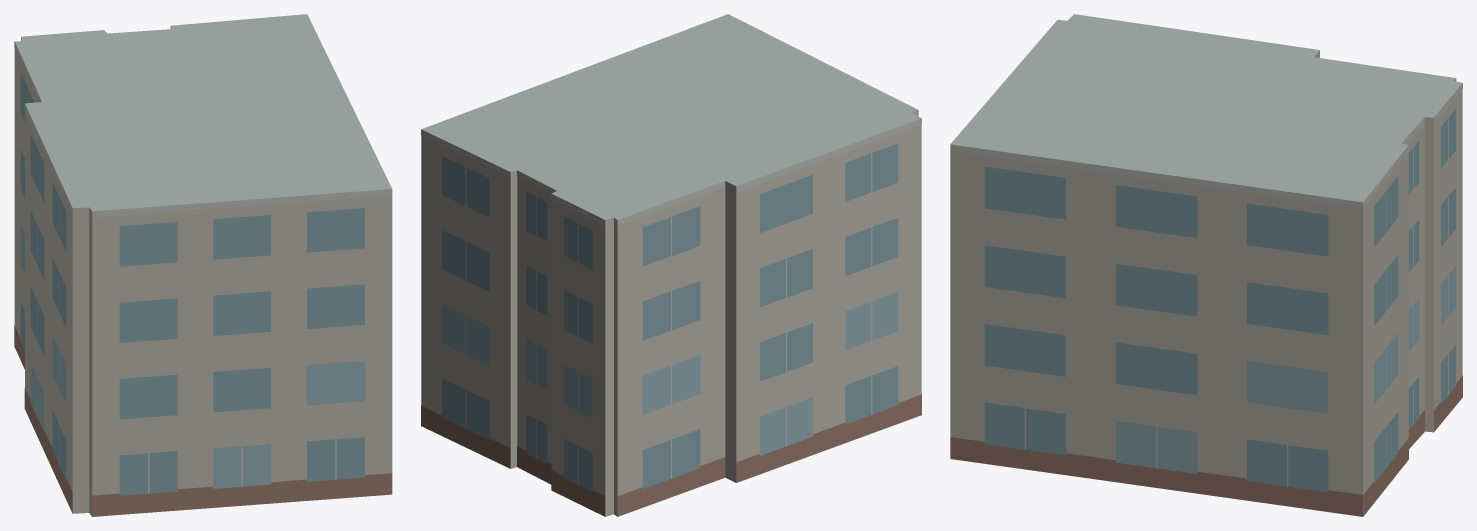
The model's file is survey-upis-32955188.glb.
3 renders of one model, left to right at view 1: azimuth 30°, elevation 25°; view 2: azimuth 150°, elevation 25°; view 3: azimuth 270°, elevation 25°, orthographic. The views are drawn at different scales.
Parts seen in each view (by area): view 1: survey-upis-32955188.tmp; view 2: survey-upis-32955188.tmp; view 3: survey-upis-32955188.tmp.
Part boxes in pixels (x1,y1,x2,y2): survey-upis-32955188.tmp: [14, 14, 392, 516]; survey-upis-32955188.tmp: [421, 14, 921, 516]; survey-upis-32955188.tmp: [950, 14, 1462, 516].
Size of the model in its own units: 15.29 by 11.9 by 17.59.
